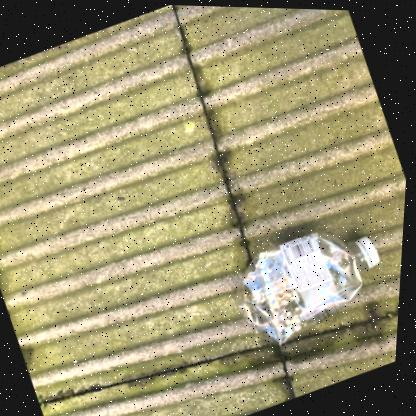Plastic: (240, 231, 383, 343)
